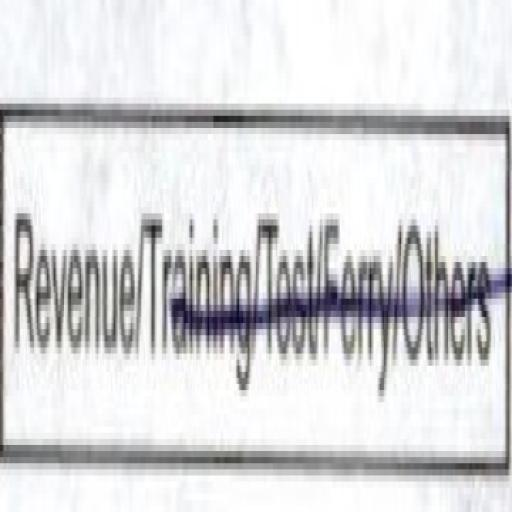check: (5, 91, 144, 512)
